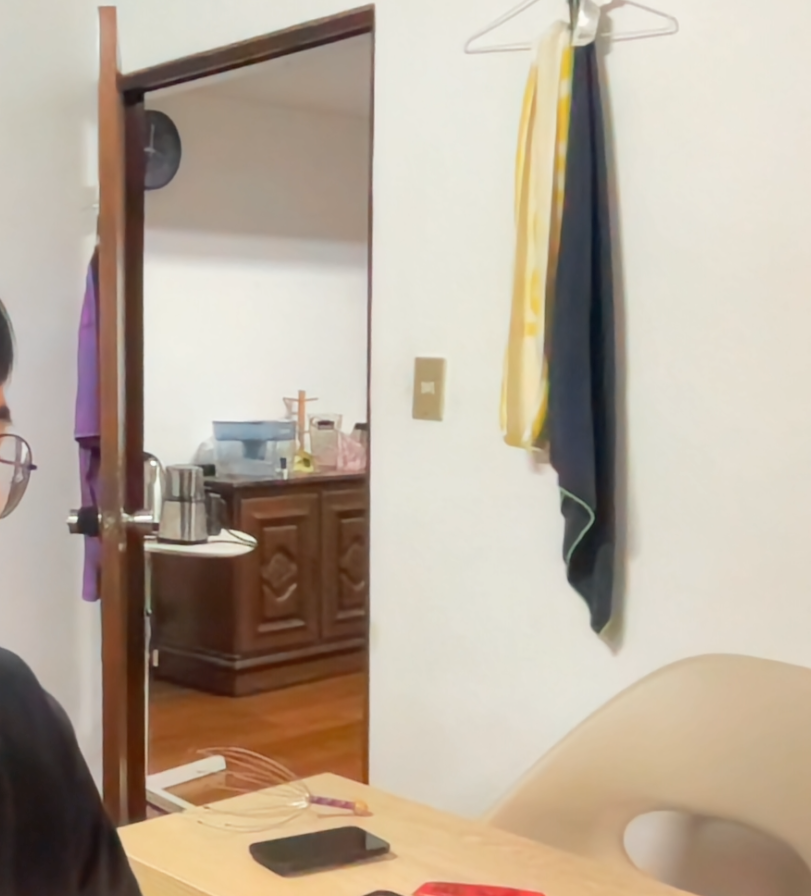Door Open: (62, 23, 453, 737)
